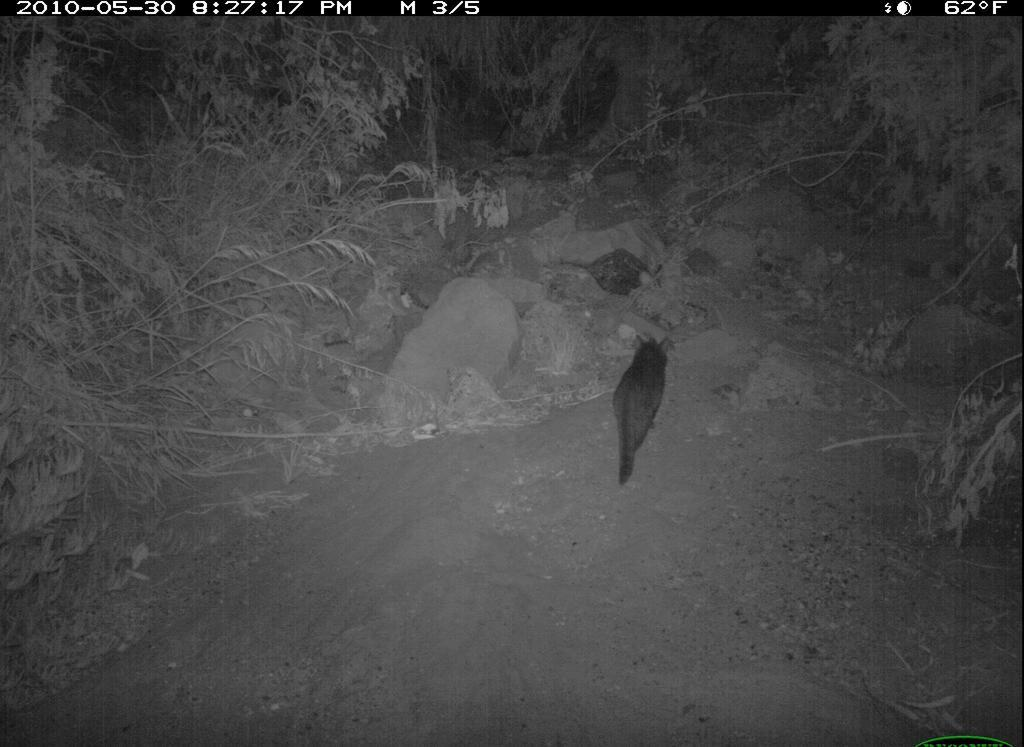cat: (610, 334, 673, 489)
